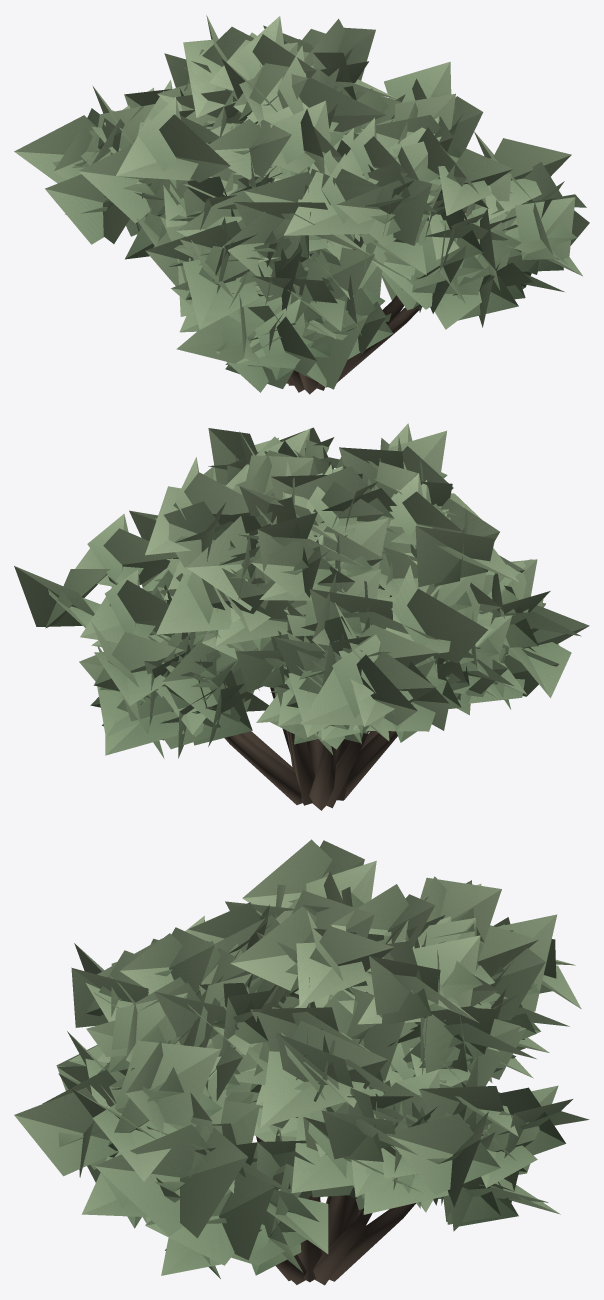
Rendered from sage.glb.
3 views of the same model, one above another, from view 1: azimuth 30°, elevation 25°; view 2: azimuth 150°, elevation 25°; view 3: azimuth 270°, elevation 25° (orthographic). The views are drawn at different scales.
Visible parts, largest first — view 1: sage; view 2: sage; view 3: sage.
Boxes of the visible parts, x1,y1,x2,y2 form: sage: (14,15,589,394); sage: (14,423,589,810); sage: (14,839,589,1285).
Size of the model in its own units: 1.28 by 0.9837 by 1.33.
